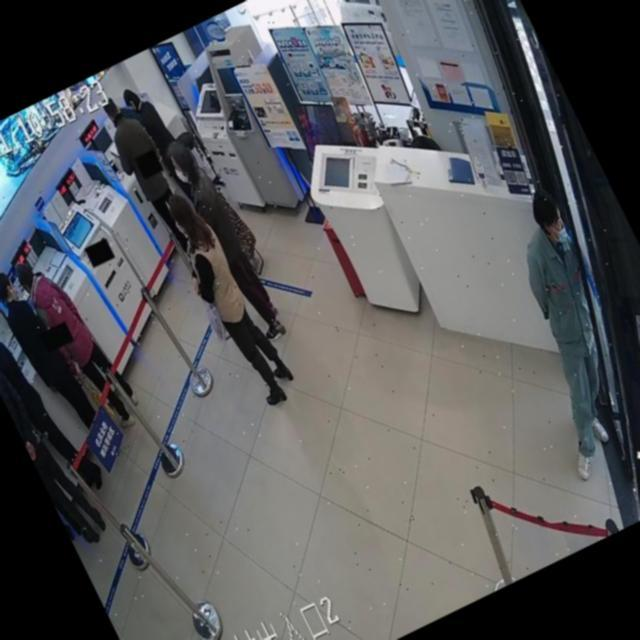person: (458, 185, 640, 490), (154, 182, 300, 414), (162, 132, 294, 348), (9, 241, 147, 442), (0, 325, 110, 551), (0, 305, 109, 512), (91, 88, 205, 266), (0, 260, 104, 442), (120, 78, 190, 182), (120, 78, 188, 179)
